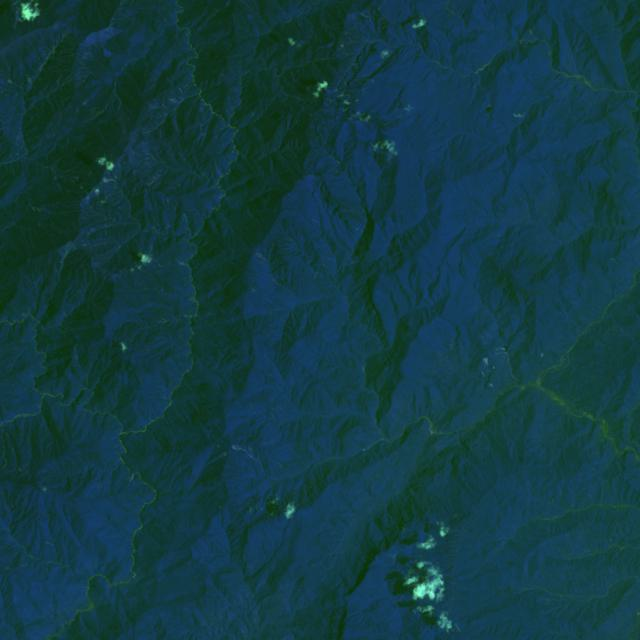landslides: (232, 445, 265, 471), (135, 265, 160, 288), (93, 95, 117, 118), (62, 242, 75, 271), (169, 145, 183, 169), (204, 452, 226, 467), (0, 87, 25, 100), (74, 73, 91, 89), (78, 12, 89, 32), (137, 273, 152, 286), (360, 12, 374, 25), (133, 276, 145, 291), (369, 160, 382, 173), (7, 79, 23, 89), (84, 52, 99, 62), (202, 186, 217, 196), (277, 462, 288, 475), (110, 195, 124, 205), (117, 299, 130, 309), (106, 191, 121, 199), (103, 0, 113, 12), (489, 383, 501, 393), (156, 146, 163, 162), (271, 407, 282, 417), (175, 257, 187, 266), (122, 282, 134, 291), (95, 43, 103, 56), (358, 138, 371, 146)
